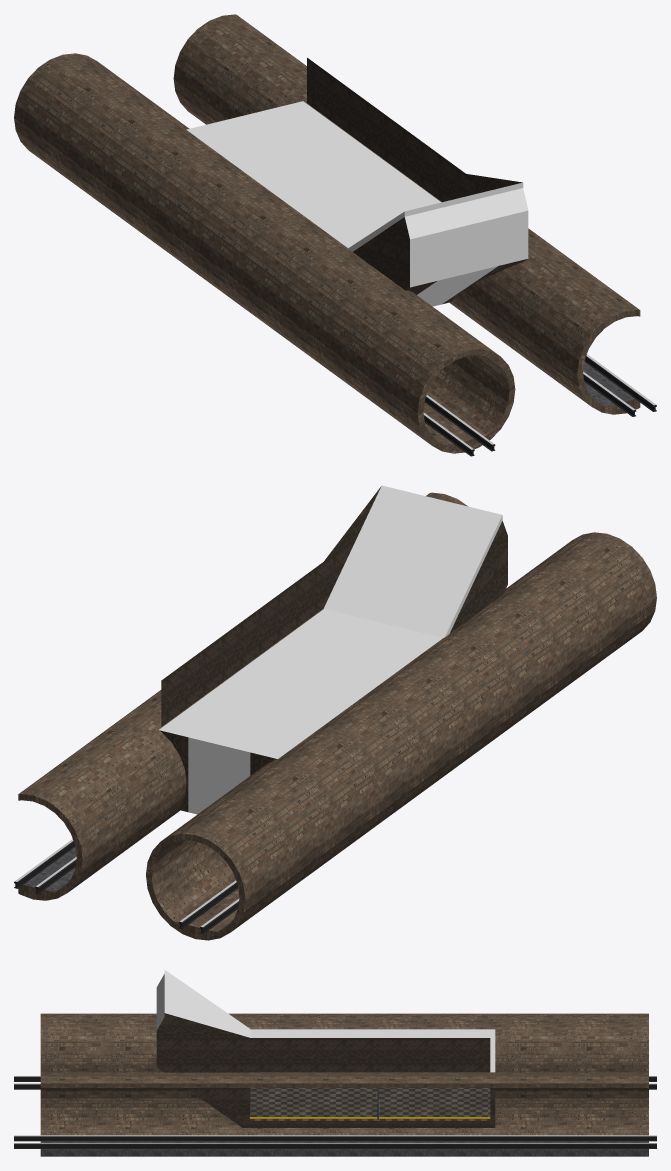
Rendered from metro_v1.glb.
The picture shows the model from 3 angles, top to bottom: view 1: azimuth 30°, elevation 25°; view 2: azimuth 150°, elevation 25°; view 3: azimuth 270°, elevation 25°; orthographic projection. The views are drawn at different scales.
Visible parts, largest first — view 1: MetroTunnels, MetroLayout, Rails; view 2: MetroTunnels, MetroLayout, Rails; view 3: MetroTunnels, MetroLayout, Rails.
Boxes of the visible parts, x1,y1,x2,y2 form: MetroTunnels: [14, 14, 640, 453]; MetroLayout: [186, 57, 528, 306]; Rails: [423, 354, 656, 456]; MetroTunnels: [18, 492, 656, 940]; MetroLayout: [159, 485, 507, 814]; Rails: [14, 839, 239, 933]; MetroTunnels: [40, 1013, 648, 1156]; MetroLayout: [156, 970, 495, 1127]; Rails: [14, 1076, 656, 1148].
Size of the model in its own units: 9.13 by 6.89 by 30.3.
14 materials, 11 textured.
